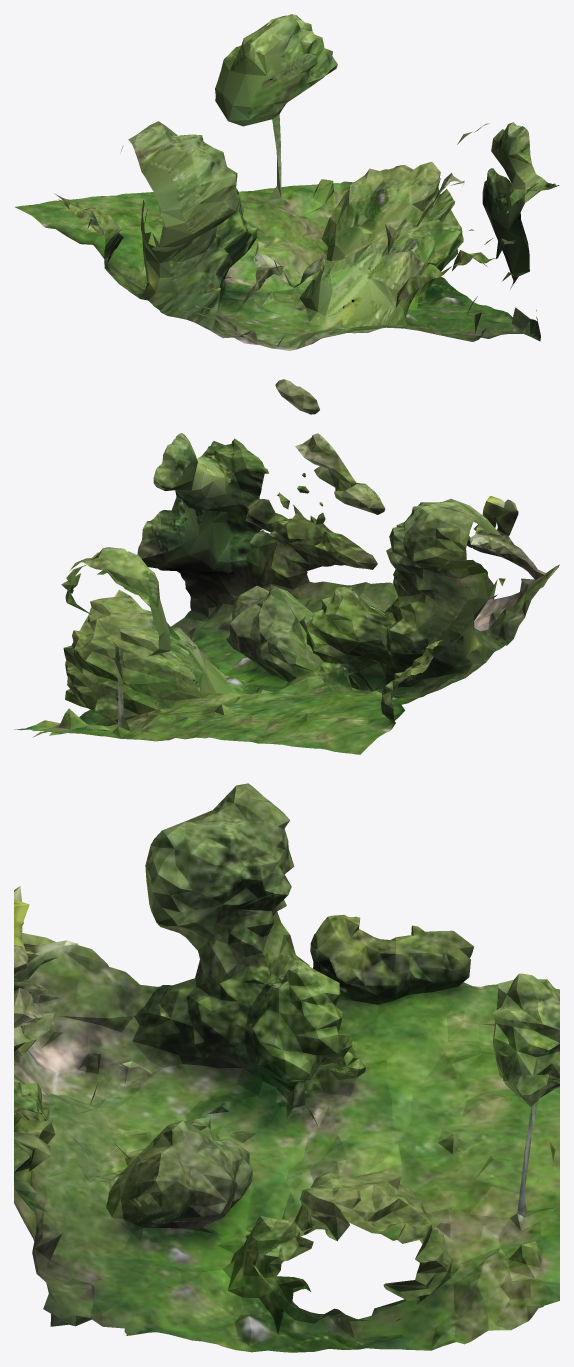
3 views of the same model, one above another, from view 1: azimuth 30°, elevation 25°; view 2: azimuth 150°, elevation 25°; view 3: azimuth 270°, elevation 25° (orthographic). The views are drawn at different scales.
Size of the model in its own units: 26.11 by 18.68 by 26.11.
Materials: 5 (5 with a texture image).
